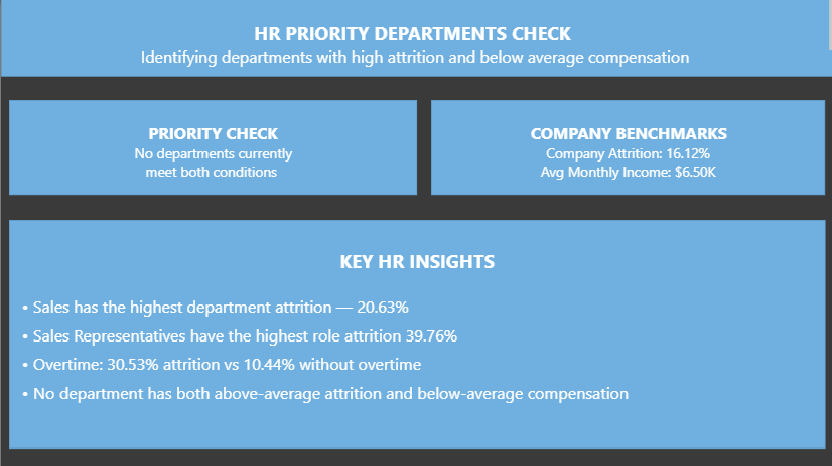

The dashboard page shown, as its layout file describes it:
{"tool":"powerbi","page":{"name":"Priority Departments Check","canvas":[1920,1080],"ordinal":3},"visuals":[{"type":"shape","box":[0,0,1920,176.4],"z":0},{"type":"textbox","box":[0,0,1920,176.4],"z":1},{"type":"shape","box":[17.6,226.8,942.4,216.7],"z":3},{"type":"textbox","box":[17.6,226.8,942.4,216.7],"z":4},{"type":"shape","box":[992.8,226.8,909.6,216.7],"z":5},{"type":"textbox","box":[992.8,226.8,909.6,216.7],"z":6},{"type":"shape","box":[17.6,498.9,1884.7,516.5],"z":7},{"type":"textbox","box":[17.6,498.9,1884.7,516.5],"z":8}]}

Visuals, with their boxes in screenshot pixels (x1, y1, x2, y2), scaled from the page's 1920x1080 canvas onto the 832x466 screenshot:
shape: [0,0,831,76]
textbox: [0,0,831,76]
shape: [8,98,416,191]
textbox: [8,98,416,191]
shape: [430,98,824,191]
textbox: [430,98,824,191]
shape: [8,215,824,438]
textbox: [8,215,824,438]
